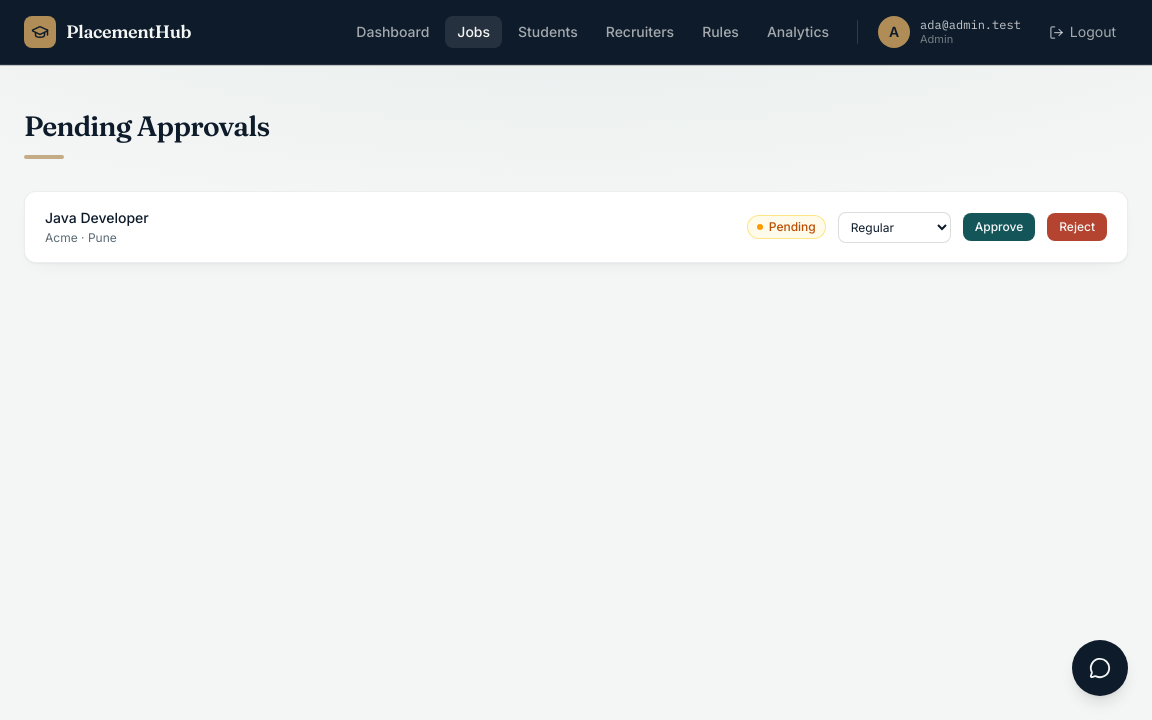
Test: Admin jobs page › lists pending jobs and approves one
Click the button "Approve" at point(999, 227), box top-left (963, 213), bottom-right (1035, 241)
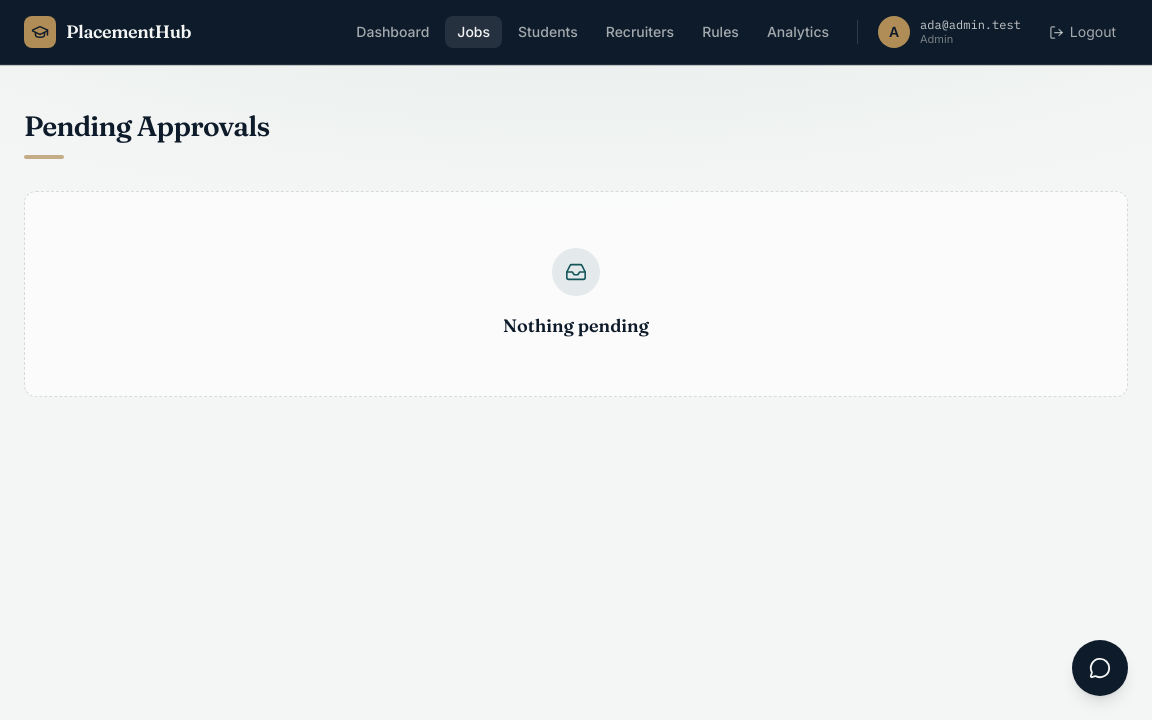
expect the text "Nothing pending" is shown: met, box top-left (503, 314), bottom-right (649, 337)
